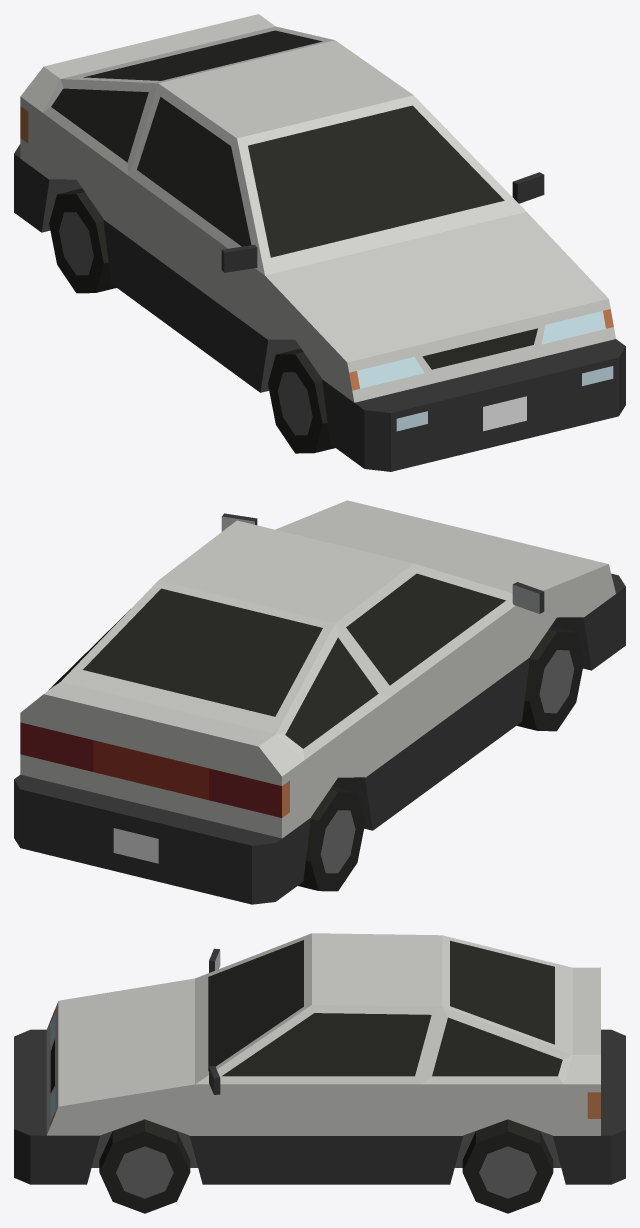
File: Veh_Coupe_01_White.obj
The picture shows the model from 3 angles, top to bottom: view 1: azimuth 30°, elevation 25°; view 2: azimuth 150°, elevation 25°; view 3: azimuth 270°, elevation 25°; orthographic projection. The views are drawn at different scales.
Bounding box in the file's own units: 1.18 × 0.8117 × 2.35.
